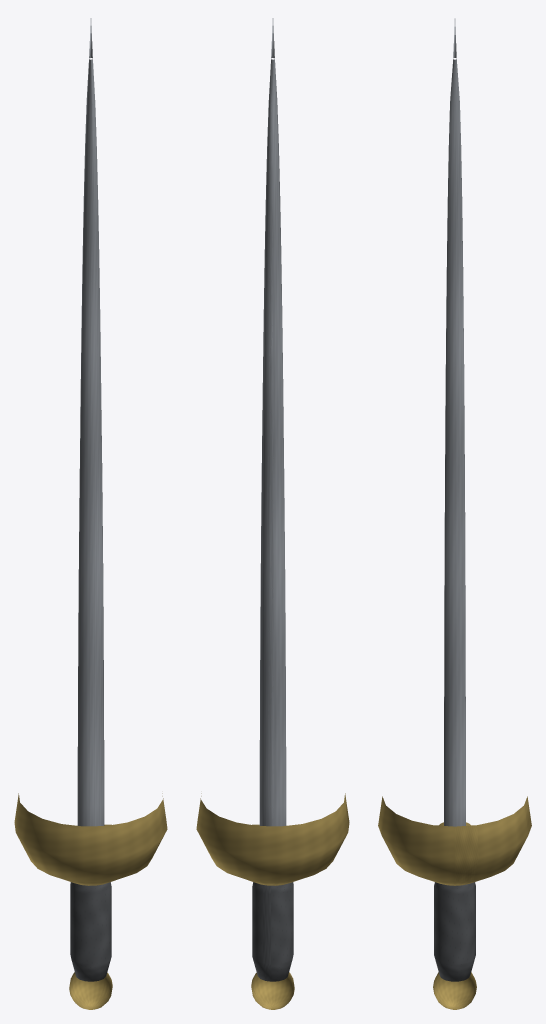
Rendered from generic_rapier.glb.
The picture shows the model from 3 angles, left to right: view 1: azimuth 30°, elevation 25°; view 2: azimuth 150°, elevation 25°; view 3: azimuth 270°, elevation 25°; orthographic projection.
Visible parts, largest first — view 1: Rapier; view 2: Rapier; view 3: Rapier.
Boxes of the visible parts, x1,y1,x2,y2 form: Rapier: (14, 18, 167, 1009); Rapier: (196, 18, 349, 1009); Rapier: (378, 18, 531, 1009).
Bounding box in the file's own units: 0.14 × 0.998 × 0.14.
3 materials, 3 textured.
